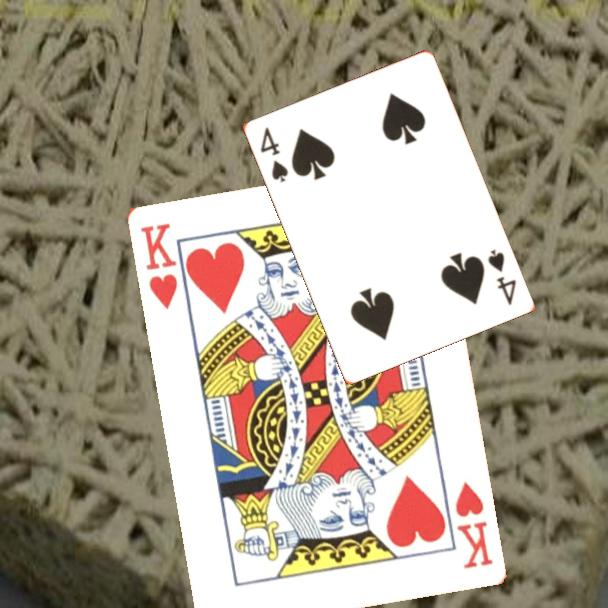h13: (451, 478, 496, 572), (136, 219, 180, 312)
s04: (484, 246, 519, 308), (256, 124, 291, 185)
